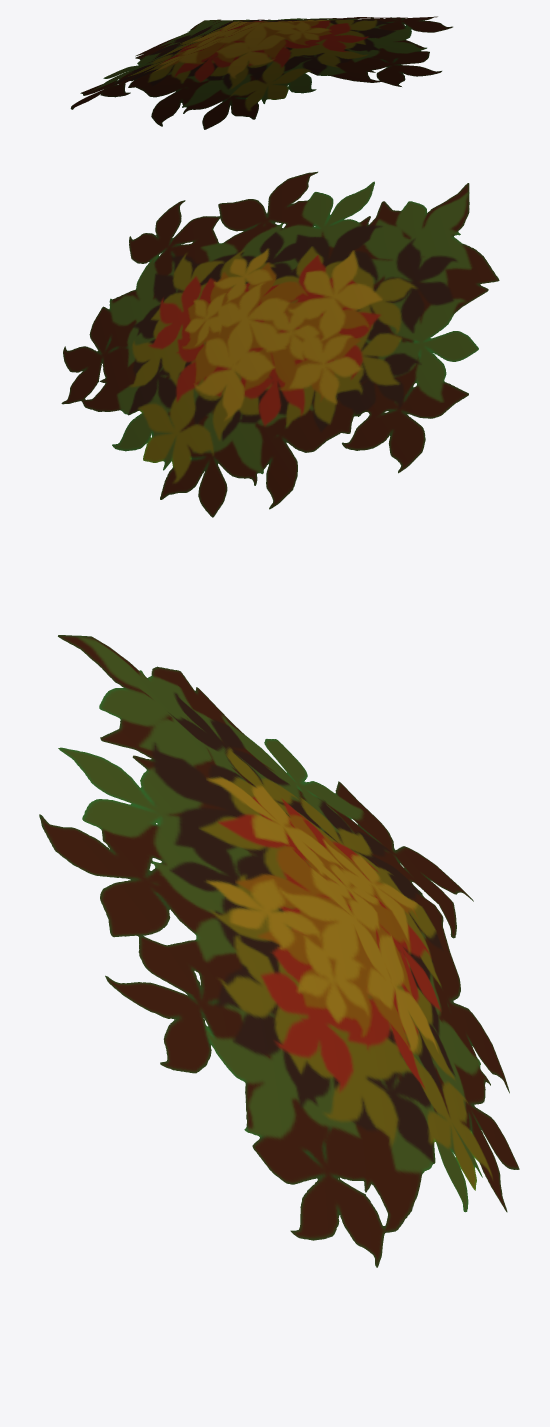
3 renders of one model, top to bottom at view 1: azimuth 30°, elevation 25°; view 2: azimuth 150°, elevation 25°; view 3: azimuth 270°, elevation 25°, orthographic. The views are drawn at different scales.
Visible parts, largest first — view 1: Plane1071; view 2: Plane1071; view 3: Plane1071.
Boxes of the visible parts, left/top/right/bottom form: Plane1071: left=70, top=16, right=452, bottom=129; Plane1071: left=61, top=171, right=499, bottom=517; Plane1071: left=39, top=635, right=519, bottom=1267.
Size of the model in its own units: 0.5761 by 0.3819 by 0.3209.
